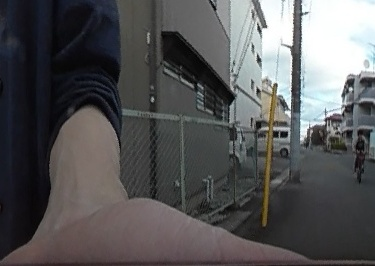person: (354, 127, 367, 179)
